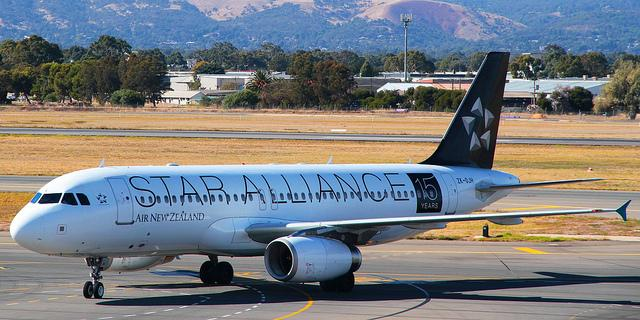airplane: (8, 49, 633, 301)
